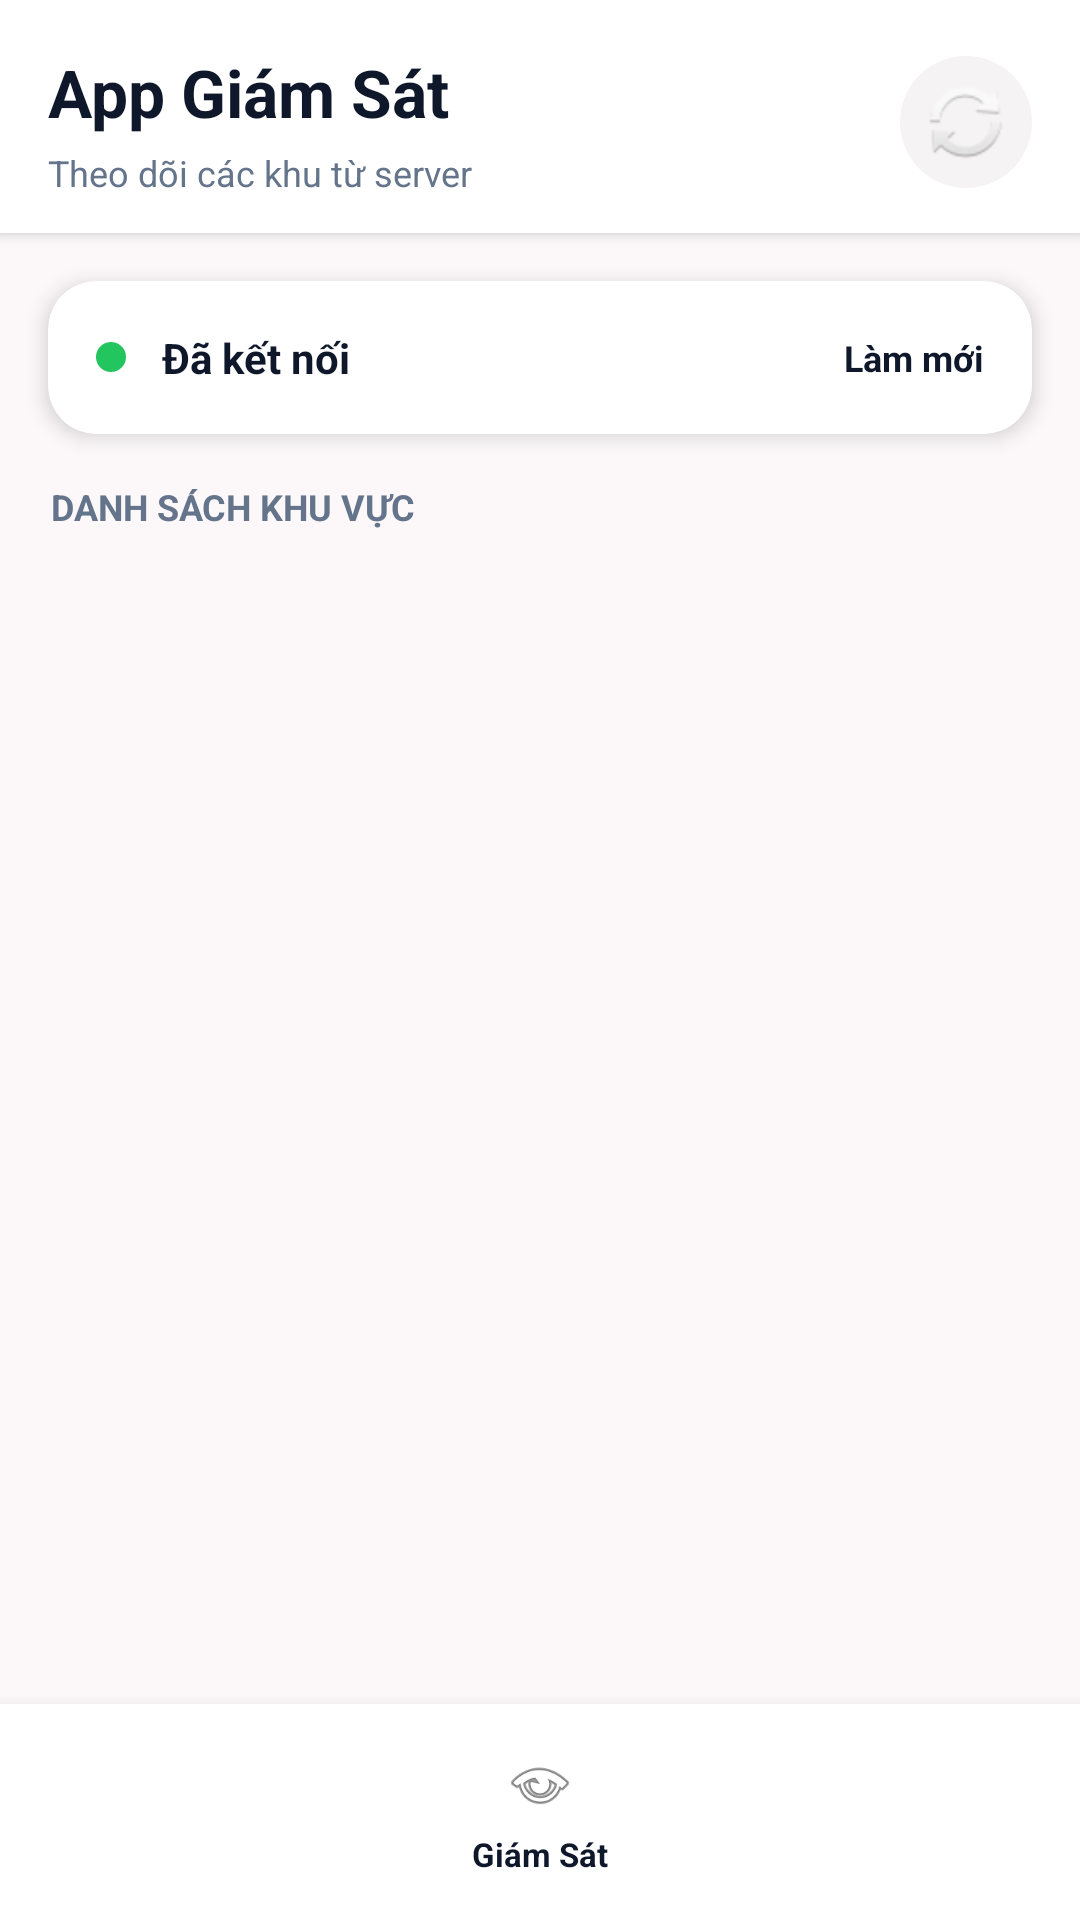

Locate icon controls on the screen. Image size 1080px x 1920px, boxes as [x1=x1, y1=y1, x2=x2, y2=y2].
view: [x1=511, y1=1767, x2=569, y2=1804]
